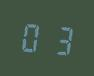three: (46, 20, 72, 58)
zero: (19, 17, 45, 55)
